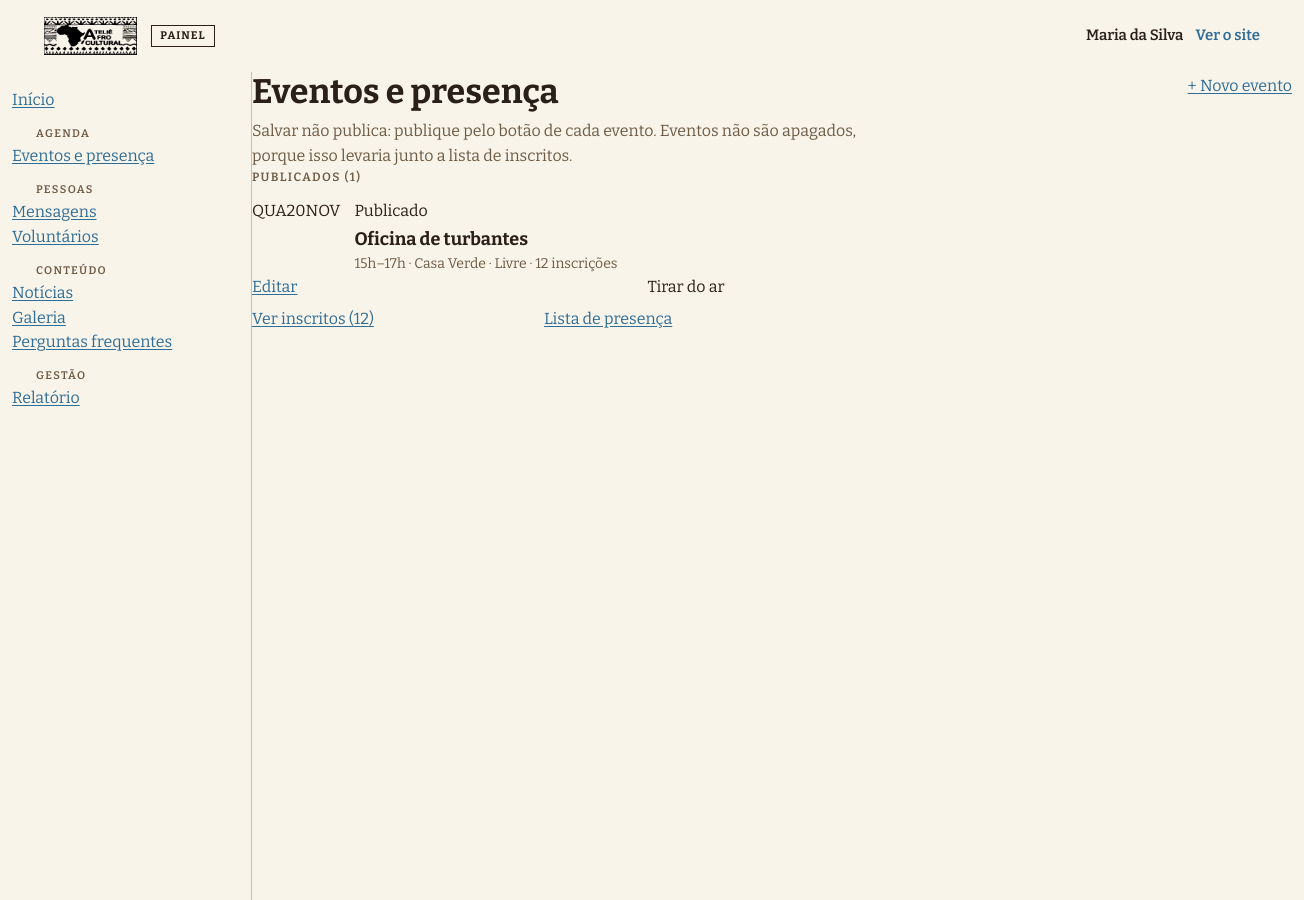
Test: the list of events › takes a published event down with the other button
The image size is (1304, 900).
Click the button "Tirar do ar" at point(686, 287), box [544,275,828,299]
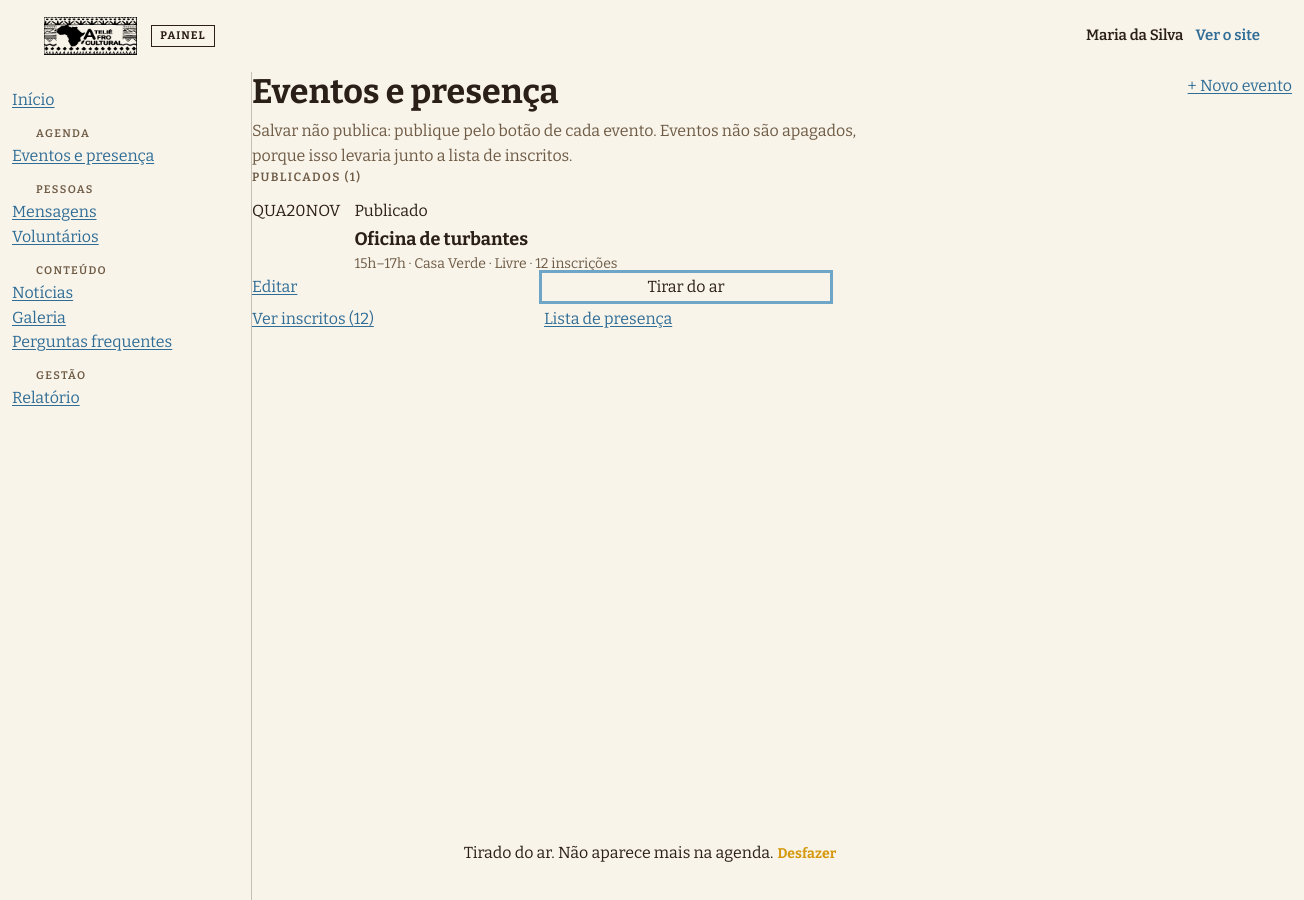
Expected: the text "Tirado do ar. Não aparece mais na agenda." is shown, [464,843,773,862]
